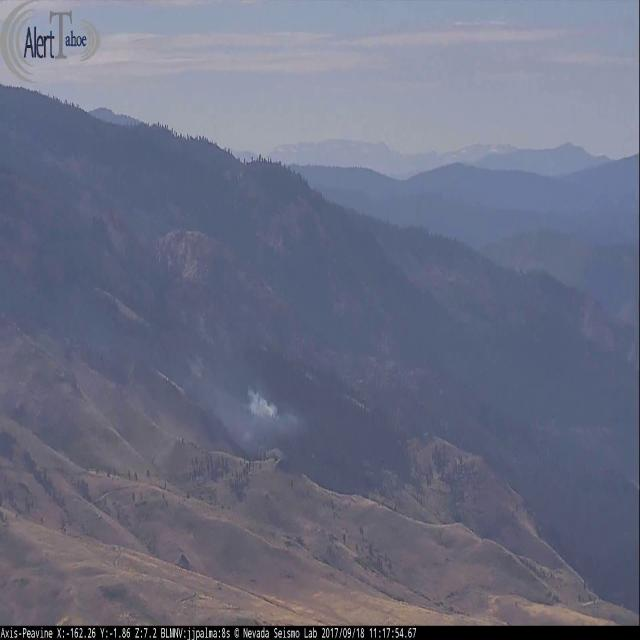smoke: (202, 366, 302, 458)
